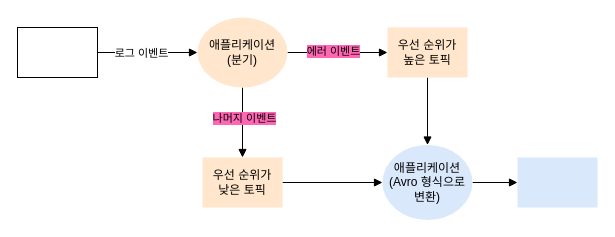
Some shapes in this 615 by 237 pixel diagram are drawn without their labels. The shapes that lost their labels are listed below. From the top down, each one's centre as x and y in pixels, then its label:
At pixel 57 52: "토픽".
At pixel 557 182: "Avro 로그".
